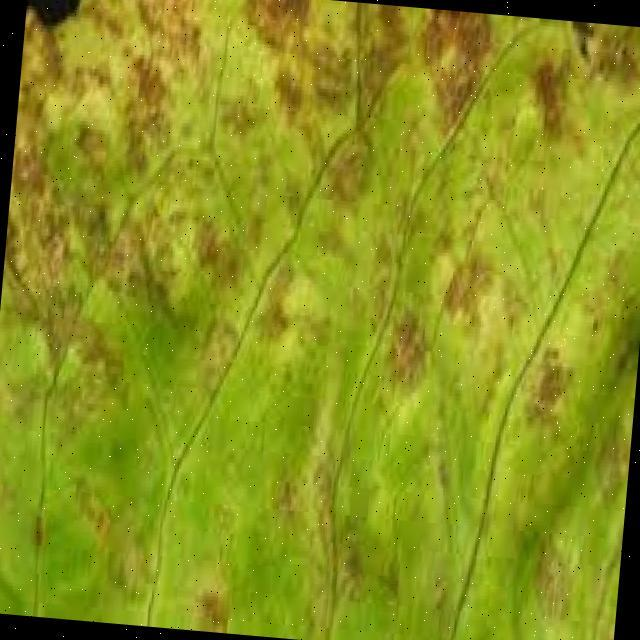Septoria_Blight: (0, 35, 640, 640)
